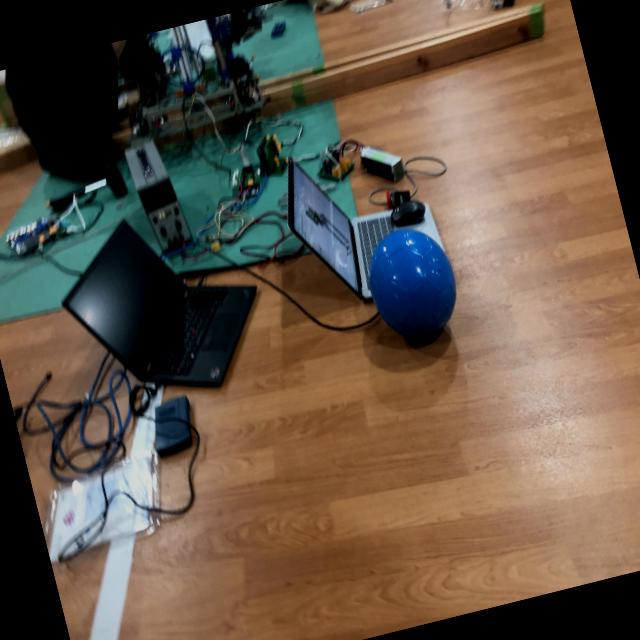blue_ball: (358, 219, 468, 348)
